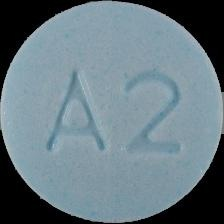50532-112: (0, 0, 224, 224)
